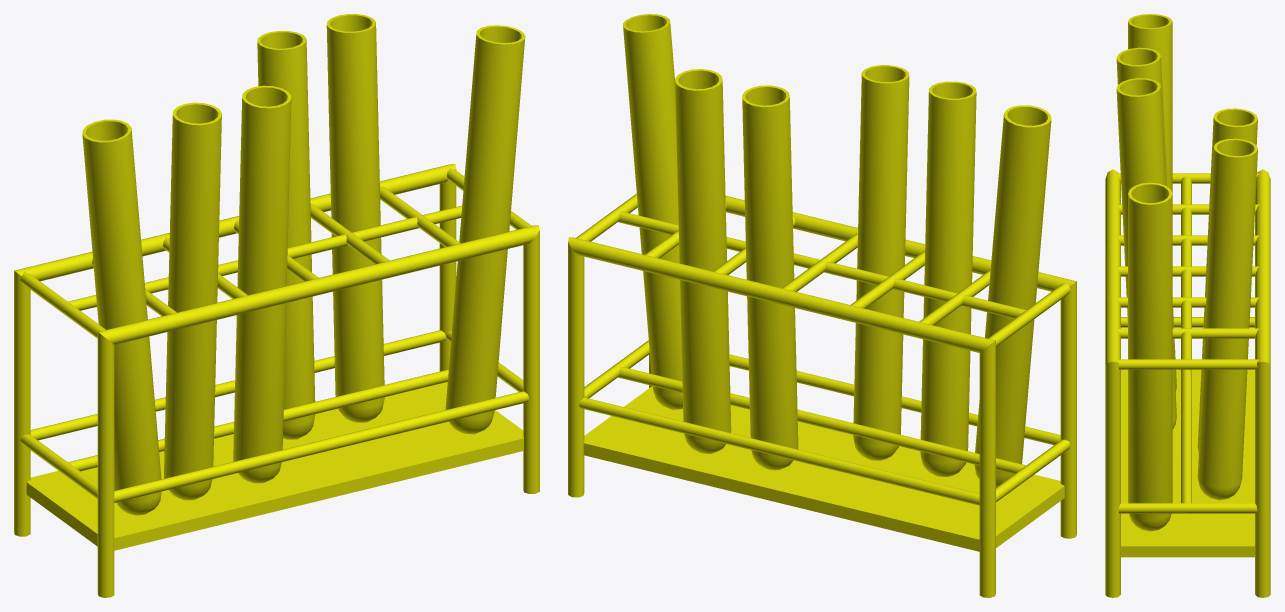
File: provette.fbx
The picture shows the model from 3 angles, left to right: view 1: azimuth 30°, elevation 25°; view 2: azimuth 150°, elevation 25°; view 3: azimuth 270°, elevation 25°; orthographic projection. The views are drawn at different scales.
Parts seen in each view (by area): view 1: KB3D_SecretLab_Native:KB3D_LAB_LabEquipement_J_Main; view 2: KB3D_SecretLab_Native:KB3D_LAB_LabEquipement_J_Main; view 3: KB3D_SecretLab_Native:KB3D_LAB_LabEquipement_J_Main.
Part boxes in pixels (x1=…): KB3D_SecretLab_Native:KB3D_LAB_LabEquipement_J_Main: x1=14, y1=14, x2=539, y2=597; KB3D_SecretLab_Native:KB3D_LAB_LabEquipement_J_Main: x1=568, y1=14, x2=1076, y2=597; KB3D_SecretLab_Native:KB3D_LAB_LabEquipement_J_Main: x1=1105, y1=14, x2=1270, y2=597.
Bounding box in the file's own units: 0.9167 × 0.8774 × 0.3297.
